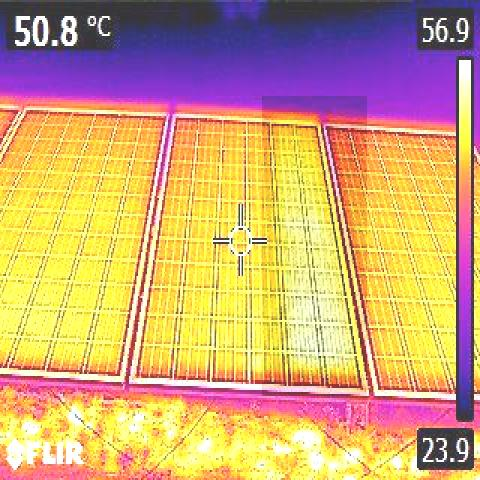fault: (262, 96, 367, 396)
